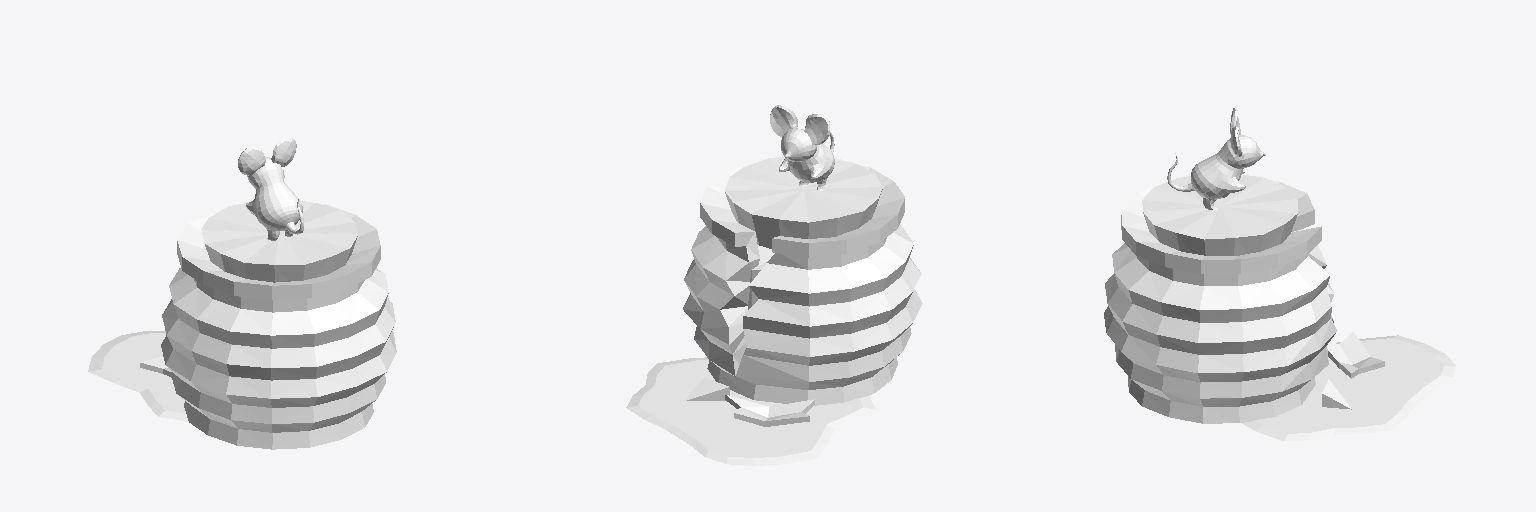
Rendered from HoneyTower.obj.
The picture shows the model from 3 angles: view 1: azimuth 30°, elevation 25°; view 2: azimuth 150°, elevation 25°; view 3: azimuth 270°, elevation 25°; orthographic projection.
Visible parts, largest first — view 1: HoneyGlass, Honey, Mouse6; view 2: HoneyGlass, Honey, Mouse6; view 3: HoneyGlass, Honey, Mouse6.
Part boxes in pixels (x1,y1,x2,y2): HoneyGlass: (140,203,396,449); Honey: (88,201,357,421); Mouse6: (238,138,303,240); HoneyGlass: (683,162,922,426); Honey: (626,157,882,465); Mouse6: (770,105,834,190); HoneyGlass: (1104,180,1384,423); Honey: (1142,175,1455,440); Mouse6: (1167,108,1265,209).
Size of the model in its own units: 3 by 3.49 by 4.21.